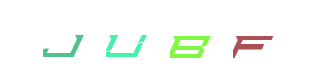B: (148, 0, 228, 80)
F: (209, 0, 289, 80)
J: (57, 0, 137, 80)
U: (119, 0, 199, 80)
